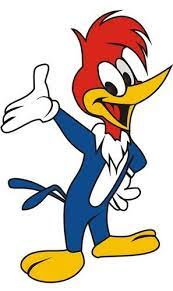picapau: (3, 1, 172, 286)
